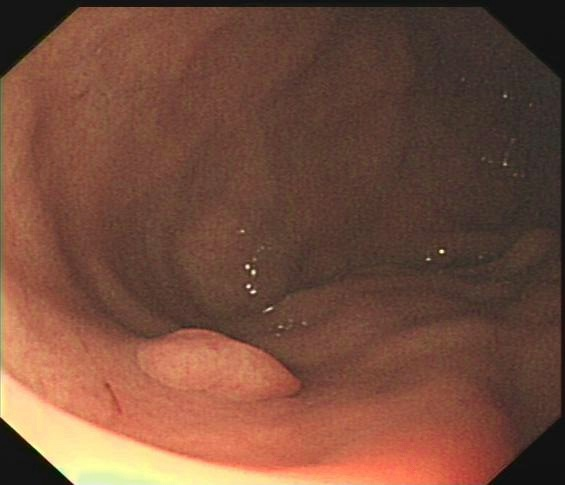Polyp: (133, 325, 306, 404)
